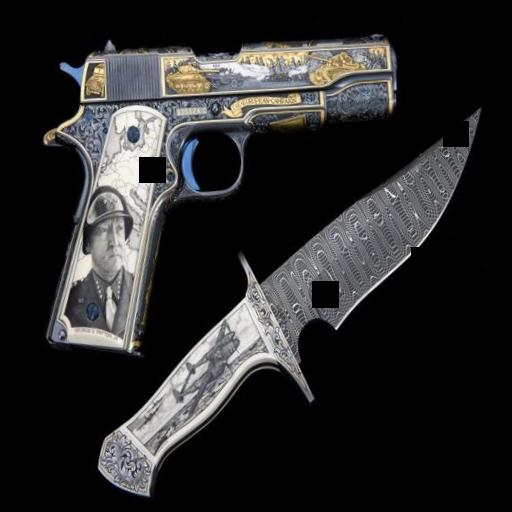Handgun: (22, 24, 412, 356)
